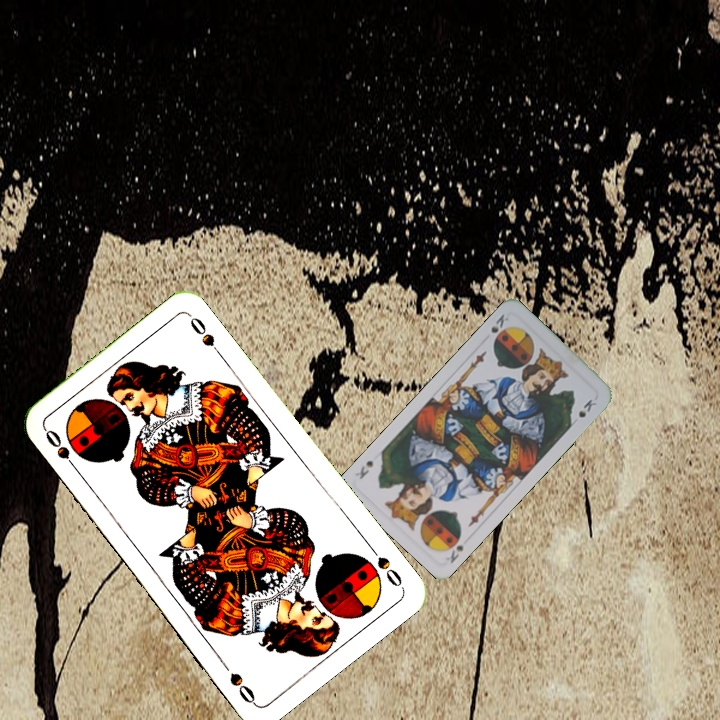SK: (441, 530, 473, 566), (487, 310, 511, 336)
SO: (40, 425, 82, 476), (364, 540, 406, 591)
